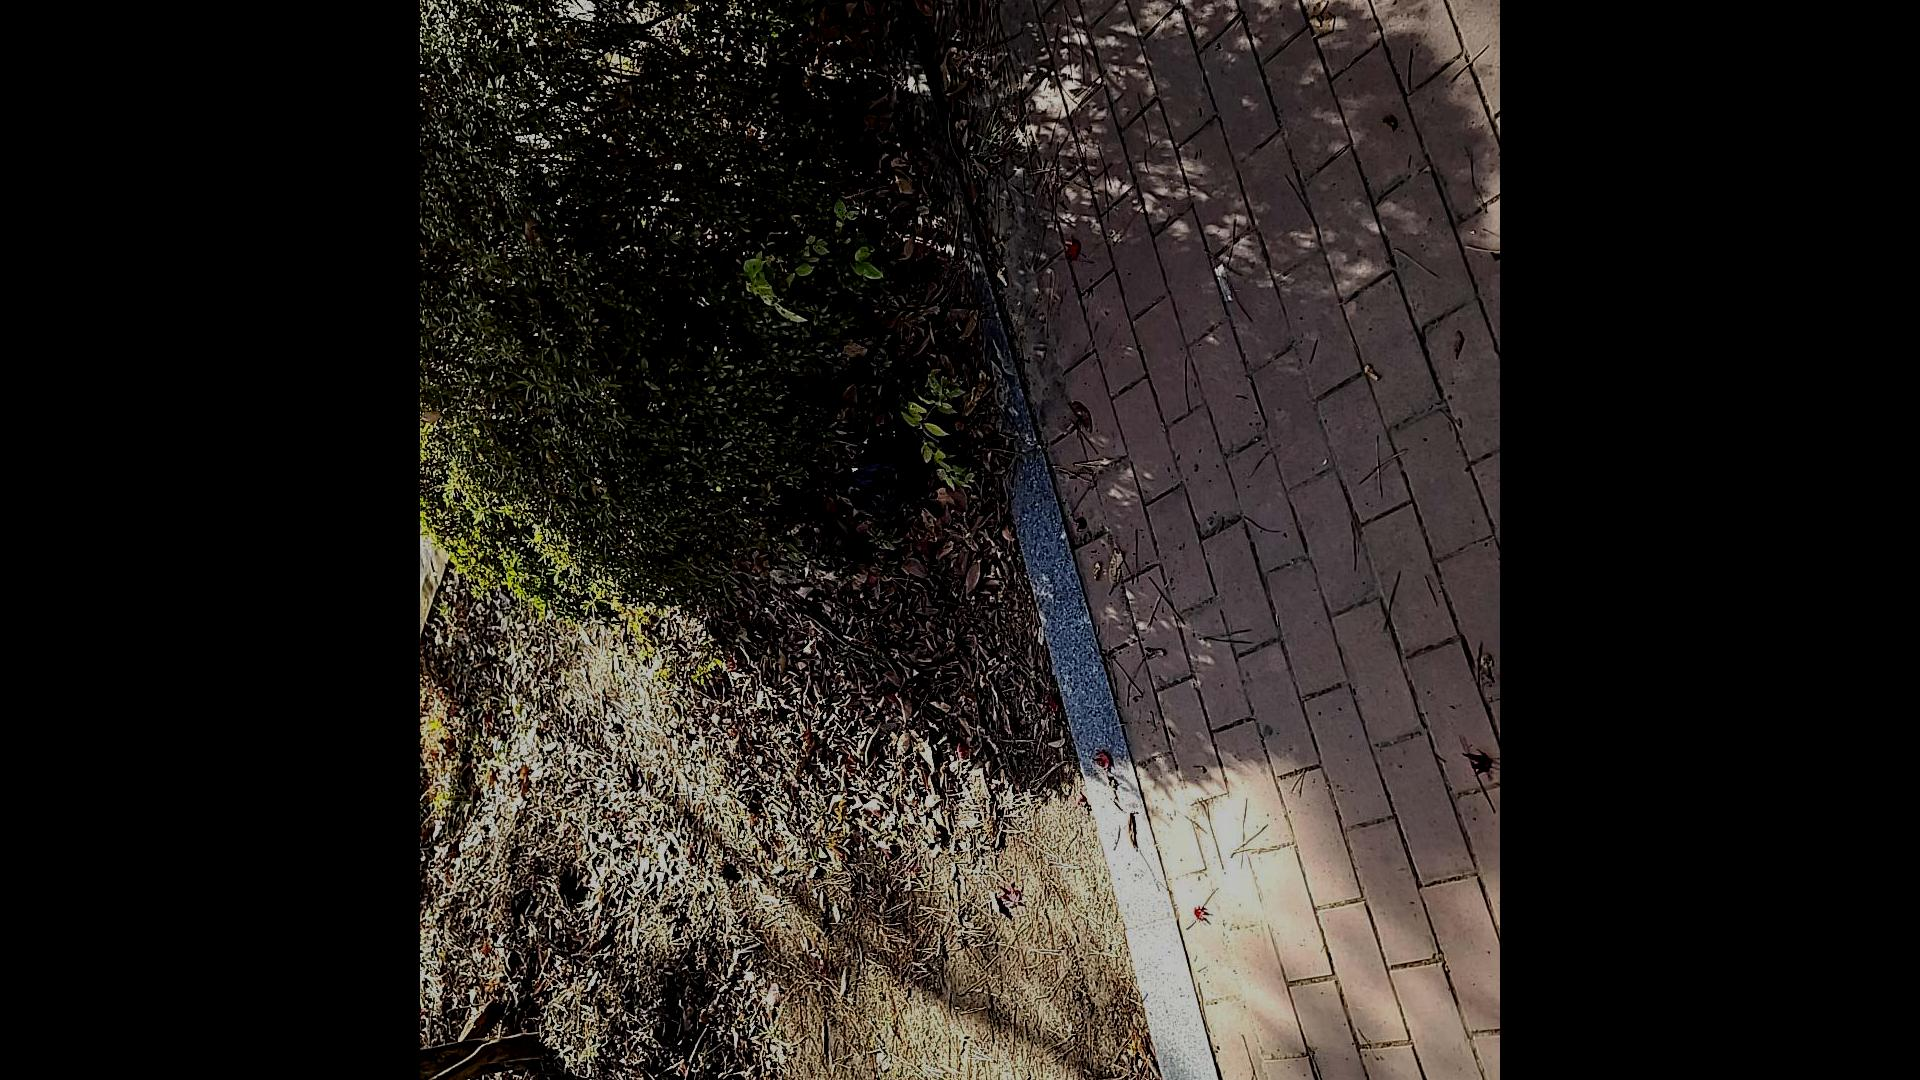black_bag: (844, 414, 943, 533)
